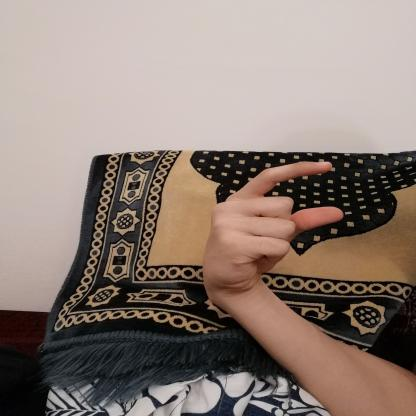DELL: (190, 151, 360, 298)
